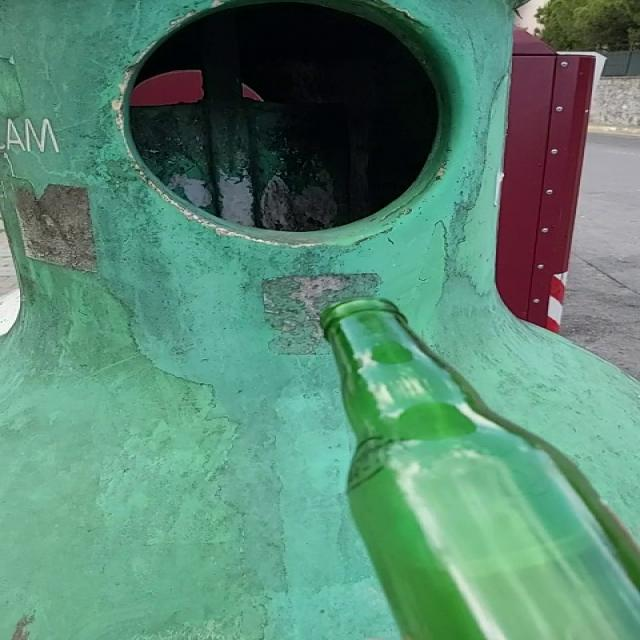glass: (321, 299, 639, 640)
